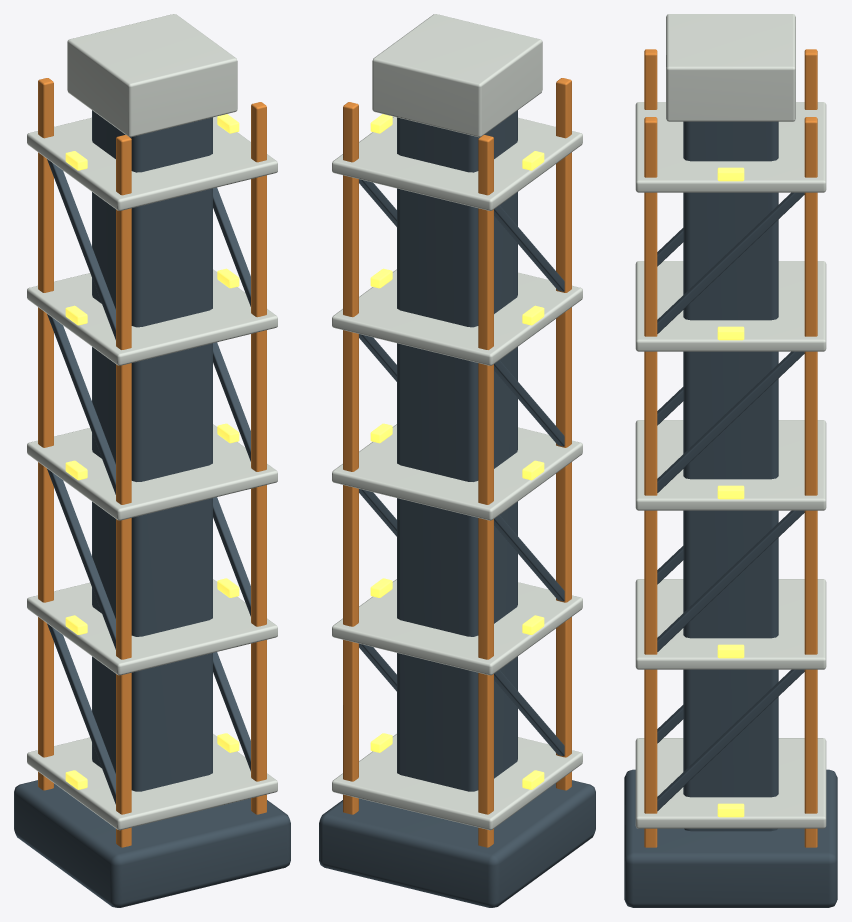
Rendered from foundry_spire.glb.
3 views of the same model, side by side, from view 1: azimuth 30°, elevation 25°; view 2: azimuth 150°, elevation 25°; view 3: azimuth 270°, elevation 25° (orthographic). The views are drawn at different scales.
Visible parts, largest first — view 1: Refinery shaft, Pylon base, Crown, Vertical girder, Vertical girder.002, Vertical girder.001, Platform.004, Platform, Platform.003, Platform.001, Platform.002, Diagonal brace (+7 smaller); view 2: Refinery shaft, Pylon base, Crown, Vertical girder.001, Vertical girder.003, Vertical girder, Platform.004, Platform, Platform.001, Platform.003, Platform.002, Diagonal brace.002 (+7 smaller); view 3: Refinery shaft, Pylon base, Crown, Platform.001, Platform.002, Platform.003, Platform, Platform.004, Vertical girder.002, Vertical girder.003, Diagonal brace.004, Diagonal brace.005 (+4 smaller).
Part boxes in pixels (x1,y1,x2,y2): Refinery shaft: (92, 110, 212, 791); Pylon base: (14, 780, 290, 907); Crown: (67, 14, 237, 137); Vertical girder: (116, 135, 131, 847); Vertical girder.002: (251, 102, 266, 814); Vertical girder.001: (38, 78, 53, 790); Platform.004: (27, 116, 277, 210); Platform: (27, 734, 277, 830); Platform.003: (27, 269, 277, 365); Platform.001: (27, 579, 277, 675); Platform.002: (27, 424, 277, 520); Diagonal brace: (47, 623, 115, 804); Refinery shaft: (397, 110, 517, 791); Pylon base: (319, 780, 595, 907); Crown: (372, 14, 542, 137); Vertical girder.001: (478, 135, 493, 847); Vertical girder.003: (343, 102, 358, 814); Vertical girder: (556, 78, 571, 790); Platform.004: (332, 116, 582, 210); Platform: (332, 734, 582, 830); Platform.001: (332, 579, 582, 675); Platform.003: (332, 269, 582, 365); Platform.002: (332, 424, 582, 520); Diagonal brace.002: (494, 360, 564, 446); Refinery shaft: (683, 121, 778, 831); Pylon base: (624, 769, 837, 907); Crown: (666, 14, 795, 121); Platform.001: (635, 579, 826, 669); Platform.002: (635, 420, 826, 510); Platform.003: (635, 261, 826, 351); Platform: (635, 738, 826, 828); Platform.004: (635, 102, 826, 192); Vertical girder.002: (644, 117, 657, 847); Vertical girder.003: (804, 117, 817, 847); Diagonal brace.004: (657, 669, 804, 811); Diagonal brace.005: (657, 510, 804, 651).
Size of the model in its own units: 2.8 by 11.95 by 2.8.
